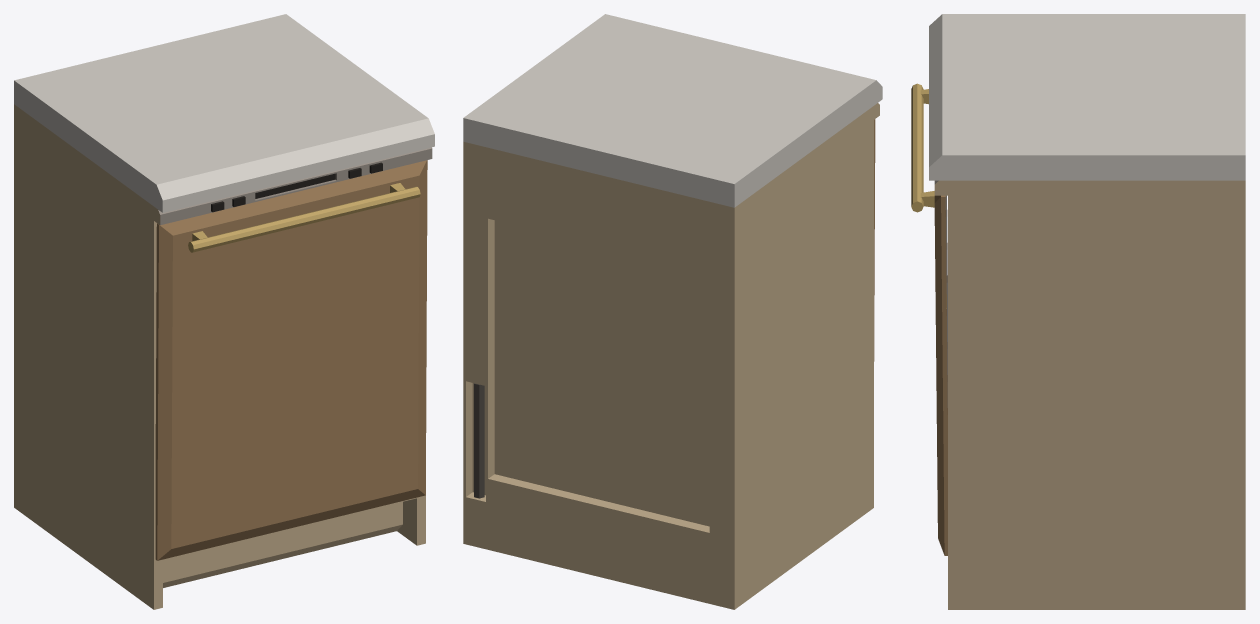
The model's file is dishwasher-977d65.glb.
3 renders of one model, left to right at view 1: azimuth 30°, elevation 25°; view 2: azimuth 150°, elevation 25°; view 3: azimuth 270°, elevation 25°, orthographic. The views are drawn at different scales.
Parts seen in each view (by area): view 1: door, dishwasher, worktop-lid; view 2: dishwasher, worktop-lid; view 3: dishwasher, worktop-lid, door.
Part boxes in pixels (x1=…): door: x1=155, y1=160, x2=427, y2=560; dishwasher: x1=14, y1=104, x2=432, y2=609; worktop-lid: x1=14, y1=14, x2=434, y2=212; dishwasher: x1=463, y1=103, x2=879, y2=609; worktop-lid: x1=463, y1=14, x2=882, y2=207; dishwasher: x1=934, y1=180, x2=1245, y2=609; worktop-lid: x1=929, y1=14, x2=1245, y2=180; door: x1=911, y1=83, x2=947, y2=555.
Bounding box in the file's own units: 0.6 × 0.9 × 0.6.
